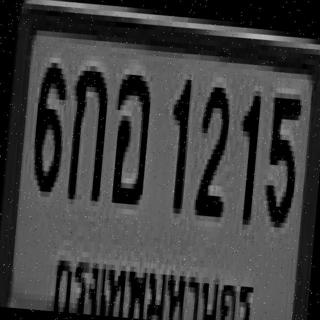A01: (66, 60, 109, 196)
A43: (108, 66, 152, 197)
N01: (163, 71, 192, 206), (233, 87, 260, 217)
N02: (193, 78, 230, 209)
N05: (261, 87, 301, 223)
N06: (29, 54, 68, 185)
P04: (48, 234, 260, 320)
